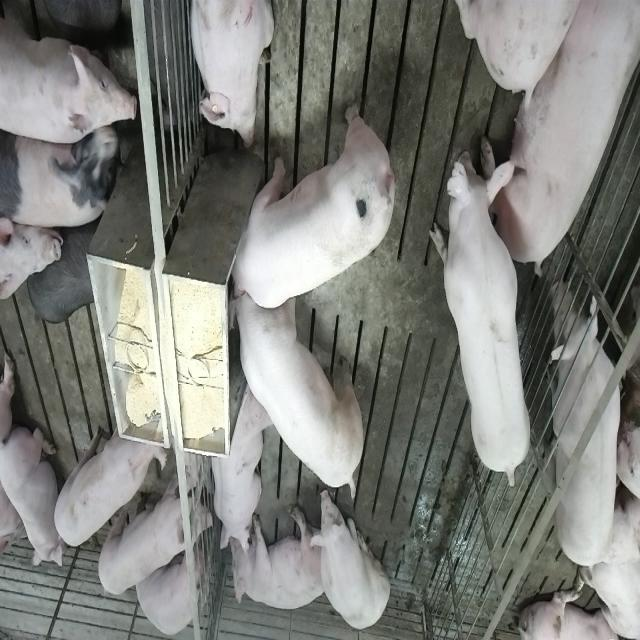Feeding: (220, 100, 392, 308), (230, 279, 366, 503)
Lateral_lying: (230, 506, 327, 612)
Sitting: (310, 484, 390, 632)
Standing: (432, 135, 536, 491), (545, 245, 639, 570), (1, 0, 140, 150), (52, 406, 166, 548), (97, 472, 213, 598), (3, 119, 123, 232), (27, 225, 98, 324)
Sternal_lying: (186, 0, 272, 150), (207, 379, 269, 555), (1, 418, 62, 568), (134, 552, 204, 638)
